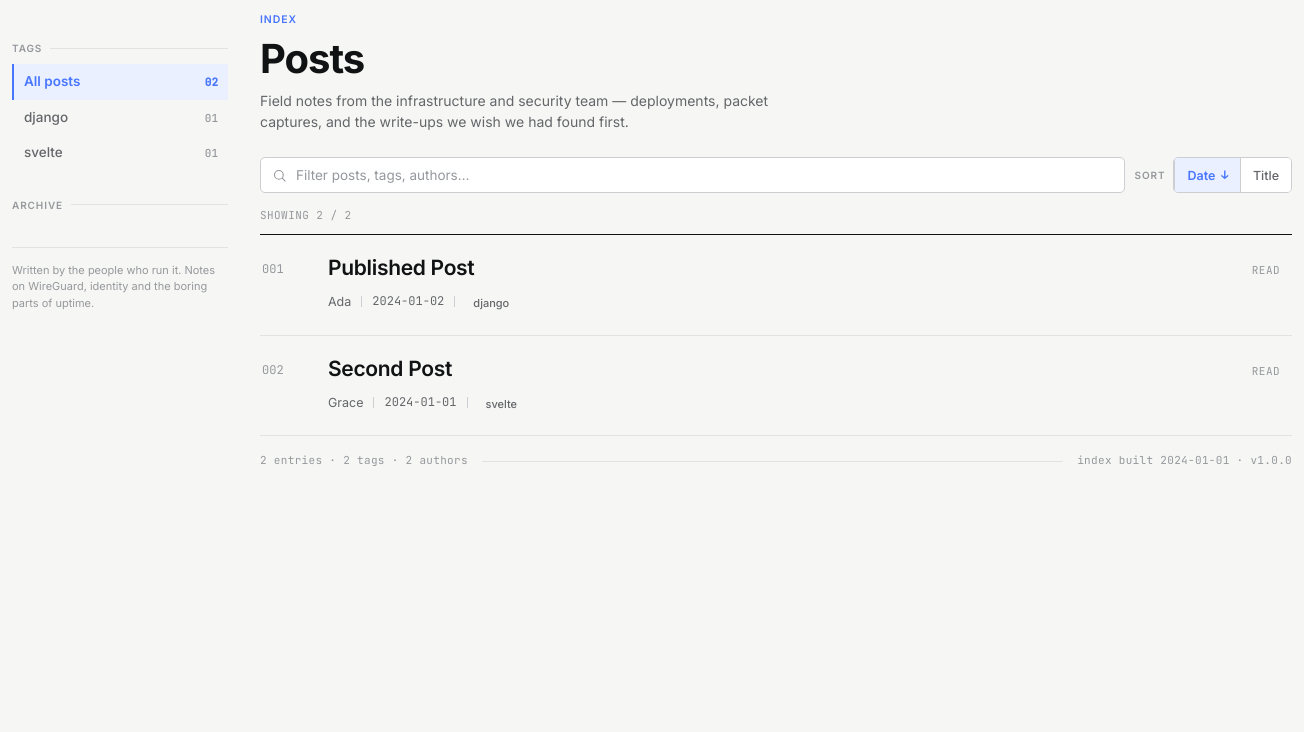
PostListPage › shows the empty state when no post matches the filter
Type "nonexistent" into the field with placeholder "Filter posts, tags, authors…" at [704, 175], box [296,167,1112,183]
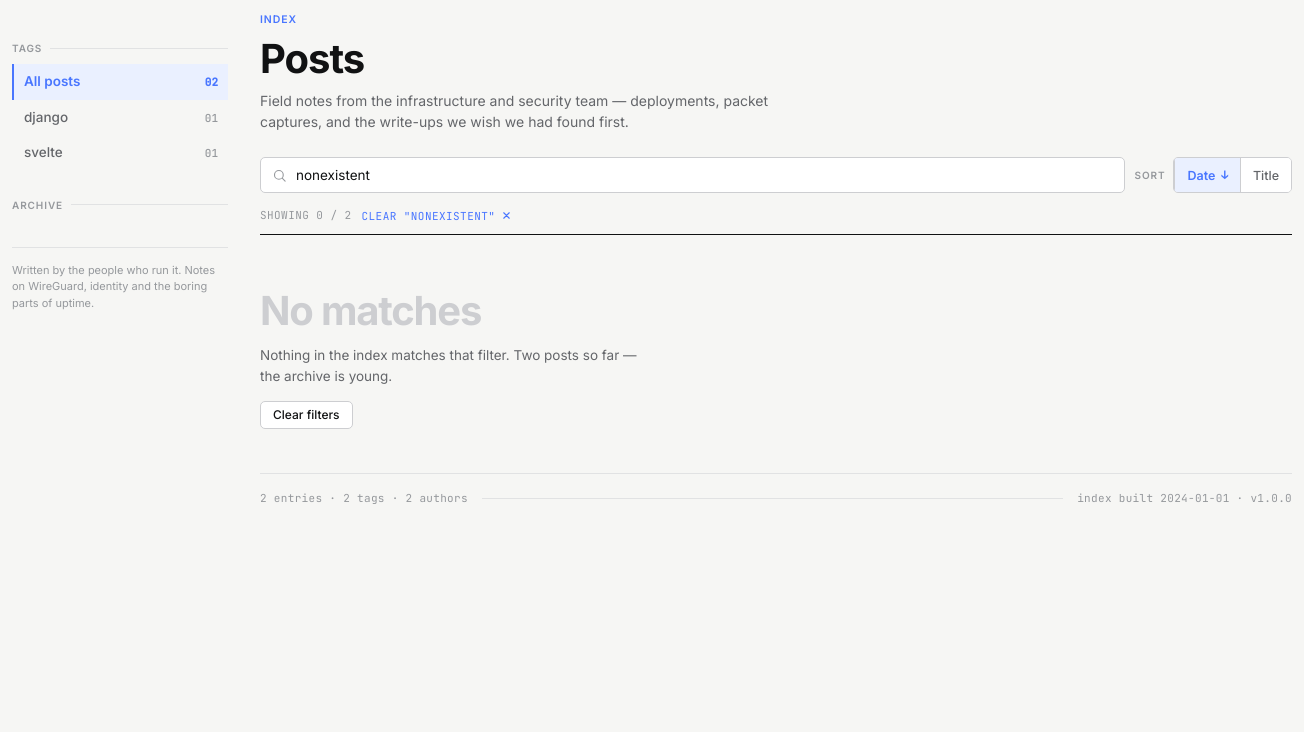
Expected: the text "No matches" is shown, [260,291,481,331]
Expected: the link "Published Post" is gone
